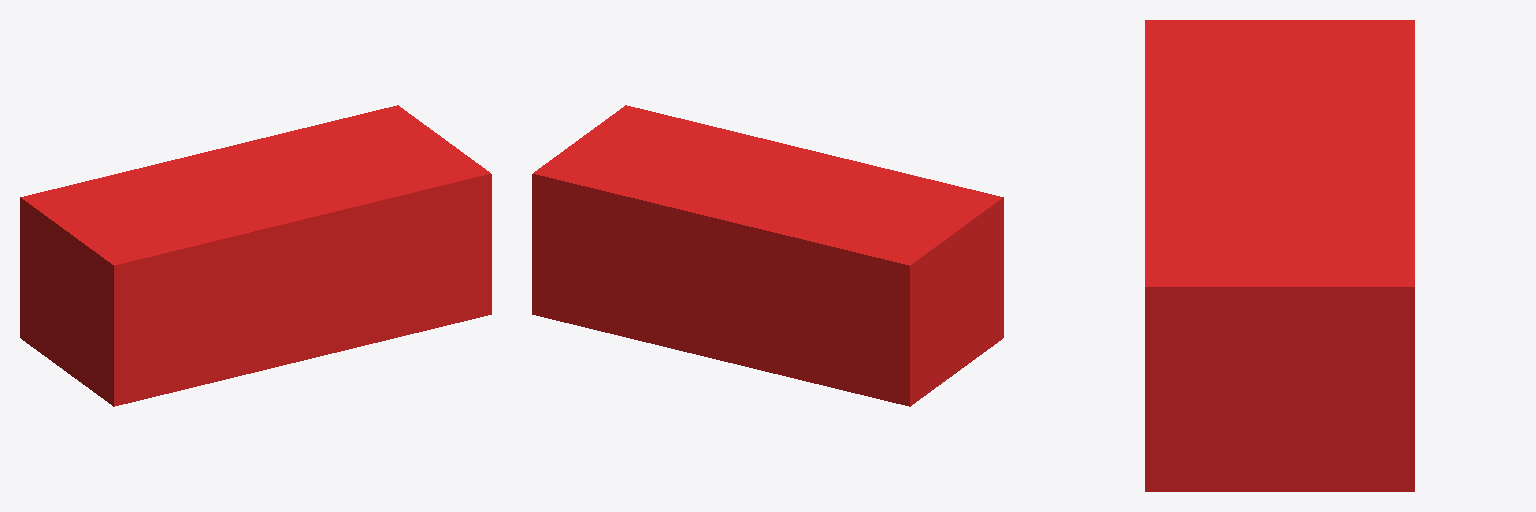
robot.urdf — wall maze 2:
<?xml version="1.0"?>
<robot name="wall maze 2">
    <!-- Colors -->
    <material name="red">
        <color rgba="0.941 0.204 0.204 1"/>
    </material>

    <!-- Wall -->
    <link name="base_link">
        <visual>
            <geometry>
                <box size="7 3 2.5" />
                <origin rpy="0 0 0" xyz="0 0 0"/>
            </geometry>
            <material name="red"/>
        </visual>

        <collision>
             <geometry>
                <box size="7 3 2.5" />
                <origin rpy="0 0 0" xyz="0 0 0"/>
            </geometry>
        </collision>
        <inertial>
            <mass value="0"/>
            <inertia ixx="0" ixy="0" ixz="0" iyy="0" iyz="0" izz="0"/>
        </inertial>
    </link>
</robot>

--- Render facts (derived) ---
Views: 3 orthographic renders of the robot side by side, from view 1: azimuth 30°, elevation 25°; view 2: azimuth 150°, elevation 25°; view 3: azimuth 270°, elevation 25°.
Robot: wall maze 2 — 1 links, 0 joints (none); root link base_link; default pose: all joints at 0.
Visible links, largest first — view 1: base_link; view 2: base_link; view 3: base_link.
Boxes of the visible links, x1,y1,x2,y2 form: base_link: [20, 105, 491, 406]; base_link: [532, 105, 1003, 406]; base_link: [1145, 20, 1414, 491].
Bounding box of the posed robot: 7 × 3 × 2.5 m (x, y, z).
Geometry: primitives only (box / cylinder / sphere), no mesh files.